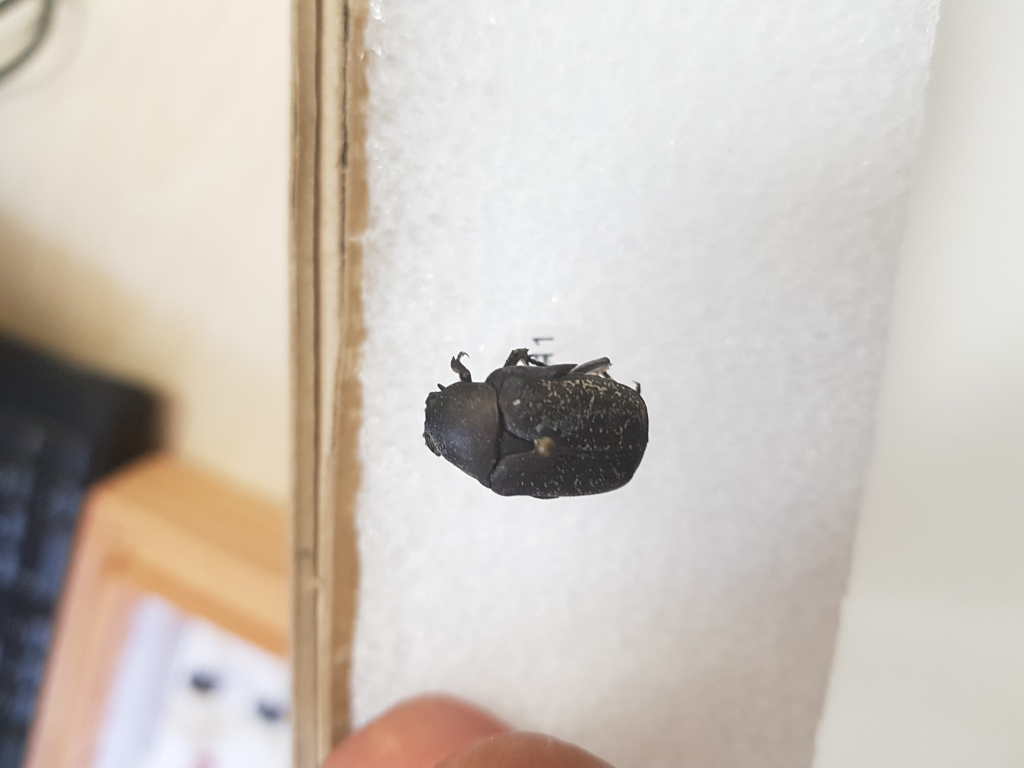Protaetia_asiatica: (415, 346, 652, 510)
